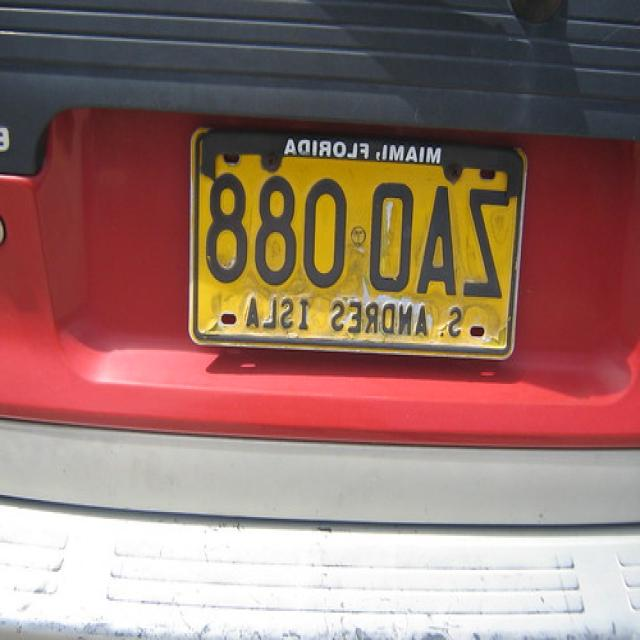placas: (201, 170, 518, 306)
